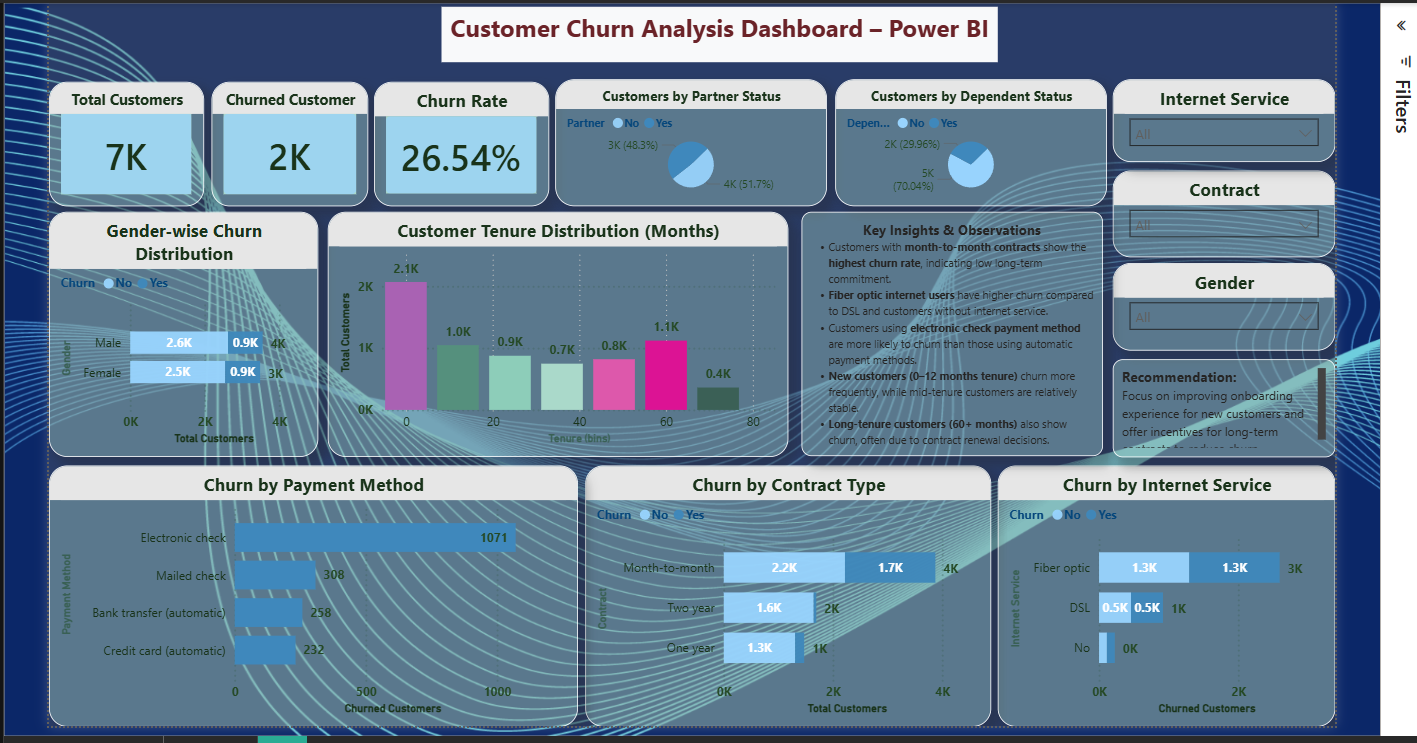

The dashboard page shown, as its layout file describes it:
{"tool":"powerbi","page":{"name":"Page 1","canvas":[1280,720],"ordinal":0},"visuals":[{"type":"cardVisual","title":"Total Customers","fields":{"Data":["Telco_Customer_Churn_Dataset  (2).Total Customers"]},"box":[0,78,154,124],"z":0},{"type":"cardVisual","title":"Churned Customer","fields":{"Data":["Telco_Customer_Churn_Dataset  (2).Churned Customers"]},"box":[162,78,156,124],"z":1000},{"type":"cardVisual","title":"Churn Rate","fields":{"Data":["Telco_Customer_Churn_Dataset  (2).Churn Rate (%)"]},"box":[324,78,174,124],"z":2000},{"type":"barChart","title":"Gender-wise Churn Distribution","fields":{"Category":["Telco_Customer_Churn_Dataset  (2).Gender"],"Y":["Telco_Customer_Churn_Dataset  (2).Total Customers"],"Series":["Telco_Customer_Churn_Dataset  (2).Churn"]},"box":[0,208,268,244],"z":3000},{"type":"pieChart","title":"Customers by Partner Status","fields":{"Category":["Telco_Customer_Churn_Dataset  (2).Partner"],"Y":["Telco_Customer_Churn_Dataset  (2).Total Customers"]},"box":[504,76,270,126],"z":4000},{"type":"pieChart","title":"Customers by Dependent Status","fields":{"Category":["Telco_Customer_Churn_Dataset  (2).Dependents"],"Y":["Telco_Customer_Churn_Dataset  (2).Total Customers"]},"box":[782,76,270,126],"z":5000},{"type":"clusteredColumnChart","title":"Customer Tenure Distribution (Months)","fields":{"Category":["Telco_Customer_Churn_Dataset  (2).Tenure (bins)"],"Y":["Telco_Customer_Churn_Dataset  (2).Total Customers"]},"box":[278,208,458,244],"z":6000},{"type":"barChart","title":"Churn by Contract Type","fields":{"Category":["Telco_Customer_Churn_Dataset  (2).Contract"],"Y":["Telco_Customer_Churn_Dataset  (2).Total Customers"],"Series":["Telco_Customer_Churn_Dataset  (2).Churn"]},"box":[534,460,404,260],"z":7000},{"type":"clusteredBarChart","title":"Churn by Payment Method","fields":{"Category":["Telco_Customer_Churn_Dataset  (2).Payment Method"],"Y":["Telco_Customer_Churn_Dataset  (2).Churned Customers"]},"box":[0,460,526,260],"z":8000},{"type":"barChart","title":"Churn by Internet Service","fields":{"Category":["Telco_Customer_Churn_Dataset  (2).Internet Service"],"Y":["Telco_Customer_Churn_Dataset  (2).Churned Customers"],"Series":["Telco_Customer_Churn_Dataset  (2).Churn"]},"box":[944,460,336,260],"z":9000},{"type":"slicer","title":"Contract","fields":{"Values":["Telco_Customer_Churn_Dataset  (2).Contract"]},"box":[1058.8,166.2,221.2,86.2],"z":10000},{"type":"slicer","title":"Gender","fields":{"Values":["Telco_Customer_Churn_Dataset  (2).Gender"]},"box":[1058.8,258.8,221.2,87.5],"z":11000},{"type":"slicer","title":"Internet Service","fields":{"Values":["Telco_Customer_Churn_Dataset  (2).Internet Service"]},"box":[1058.8,76.2,221.2,82.5],"z":12000},{"type":"textbox","box":[390,3.8,553.8,55],"z":13000},{"type":"textbox","box":[748.3,208.3,300,243.3],"z":14000},{"type":"textbox","box":[1058.8,355,221.2,97.5],"z":15000}]}

Visuals, with their boxes in screenshot pixels (x1, y1, x2, y2):
"Total Customers" cardVisual: select_region(37, 76, 193, 202)
"Churned Customer" cardVisual: select_region(201, 76, 360, 202)
"Churn Rate" cardVisual: select_region(366, 76, 543, 202)
"Gender-wise Churn Distribution" barChart: select_region(37, 208, 309, 456)
"Customers by Partner Status" pieChart: select_region(549, 74, 823, 202)
"Customers by Dependent Status" pieChart: select_region(831, 74, 1106, 202)
"Customer Tenure Distribution (Months)" clusteredColumnChart: select_region(319, 208, 785, 456)
"Churn by Contract Type" barChart: select_region(579, 464, 990, 728)
"Churn by Payment Method" clusteredBarChart: select_region(37, 464, 571, 728)
"Churn by Internet Service" barChart: select_region(996, 464, 1337, 728)
"Contract" slicer: select_region(1113, 165, 1337, 253)
"Gender" slicer: select_region(1113, 259, 1337, 348)
"Internet Service" slicer: select_region(1113, 74, 1337, 158)
textbox: select_region(433, 0, 996, 56)
textbox: select_region(797, 208, 1102, 455)
textbox: select_region(1113, 357, 1337, 456)
